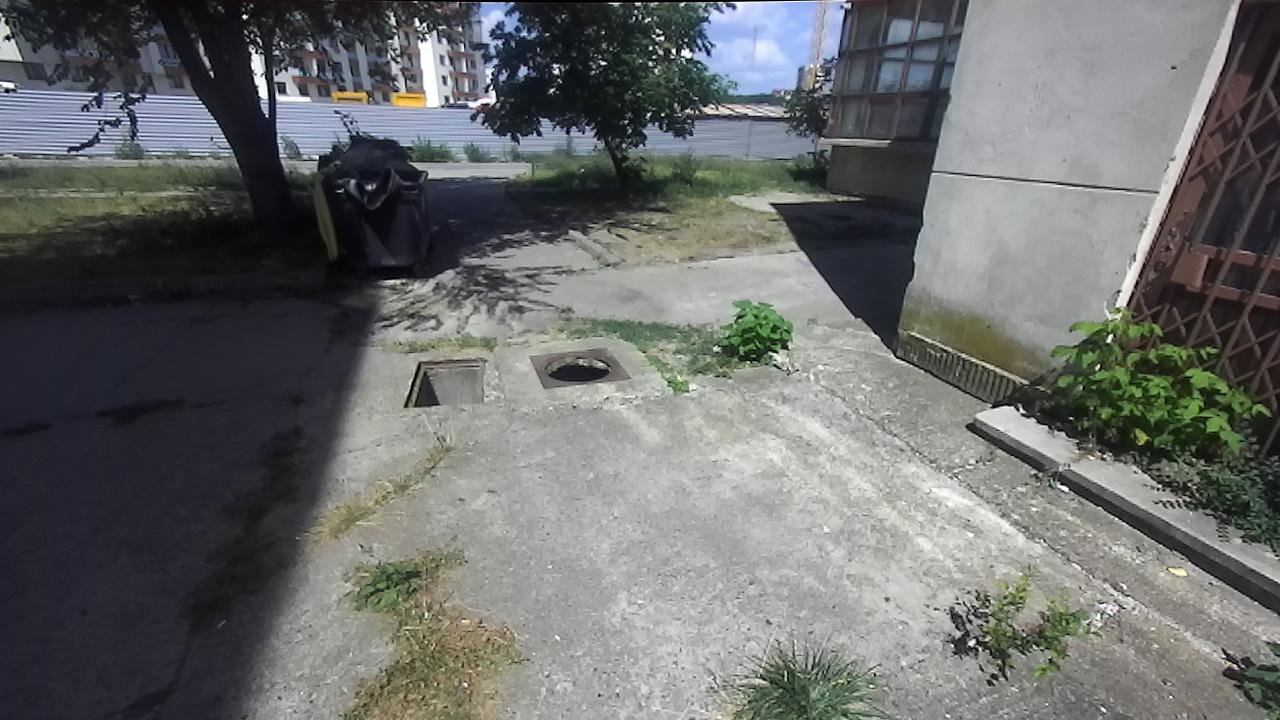drain: (400, 353, 488, 408), (539, 350, 613, 386)
